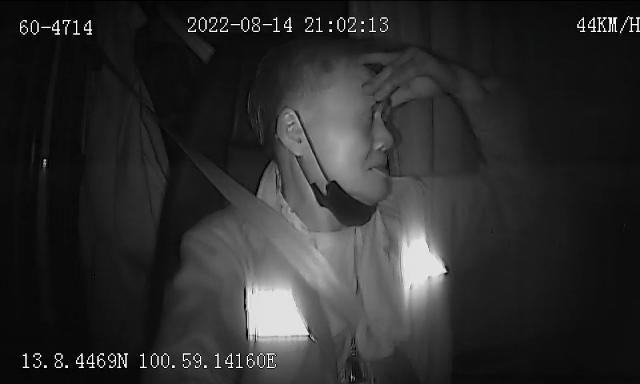Seatbelt: (208, 166, 358, 318)
